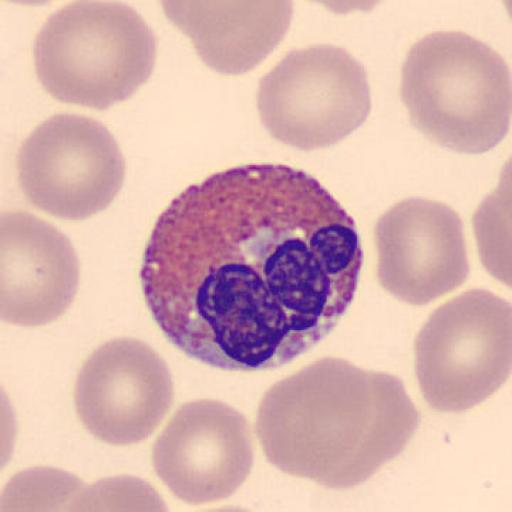RBC: (253, 355, 418, 493), (398, 27, 512, 158), (31, 0, 159, 111), (254, 42, 375, 153), (15, 108, 129, 222), (412, 292, 511, 415), (150, 396, 257, 508), (72, 334, 176, 448), (372, 195, 470, 307), (160, 1, 297, 77), (2, 207, 82, 329), (472, 164, 512, 292), (56, 471, 174, 512), (0, 462, 91, 512), (0, 384, 20, 475), (306, 0, 392, 17), (188, 502, 271, 512), (0, 0, 73, 7), (499, 0, 512, 37)
WBC: (139, 163, 366, 372)
